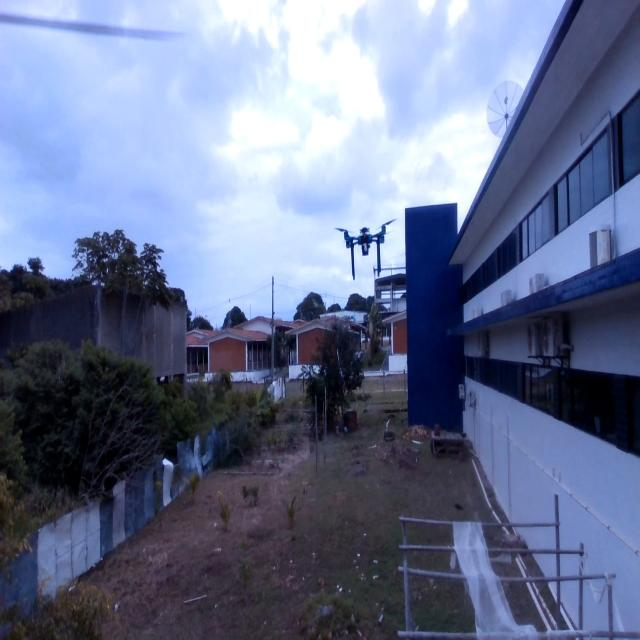-uav-: (321, 203, 413, 284)
